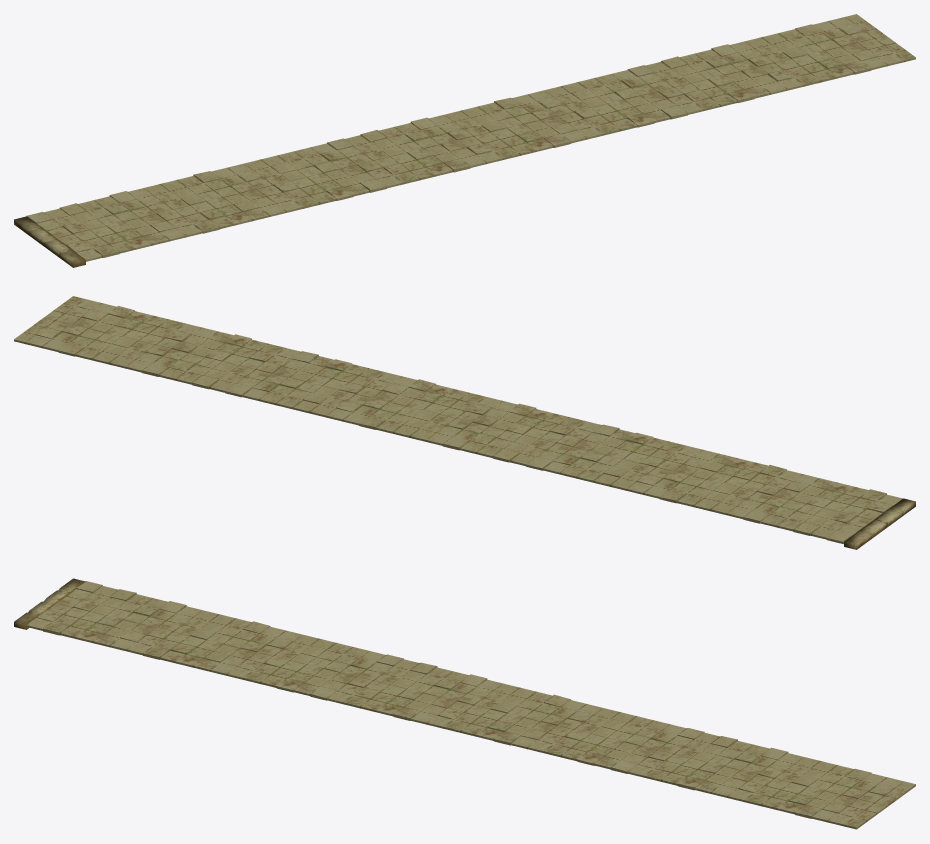
File: Road.fbx
The picture shows the model from 3 angles, top to bottom: view 1: azimuth 30°, elevation 25°; view 2: azimuth 150°, elevation 25°; view 3: azimuth 330°, elevation 25°; orthographic projection.
Parts seen in each view (by area): view 1: SM_a_001_Road_01a; view 2: SM_a_001_Road_01a; view 3: SM_a_001_Road_01a.
Boxes of the visible parts, bbox=[...] form: SM_a_001_Road_01a: bbox=[14, 14, 915, 267]; SM_a_001_Road_01a: bbox=[14, 296, 915, 549]; SM_a_001_Road_01a: bbox=[14, 578, 915, 829].
Bounding box in the file's own units: 2668 × 17.5 × 330.
